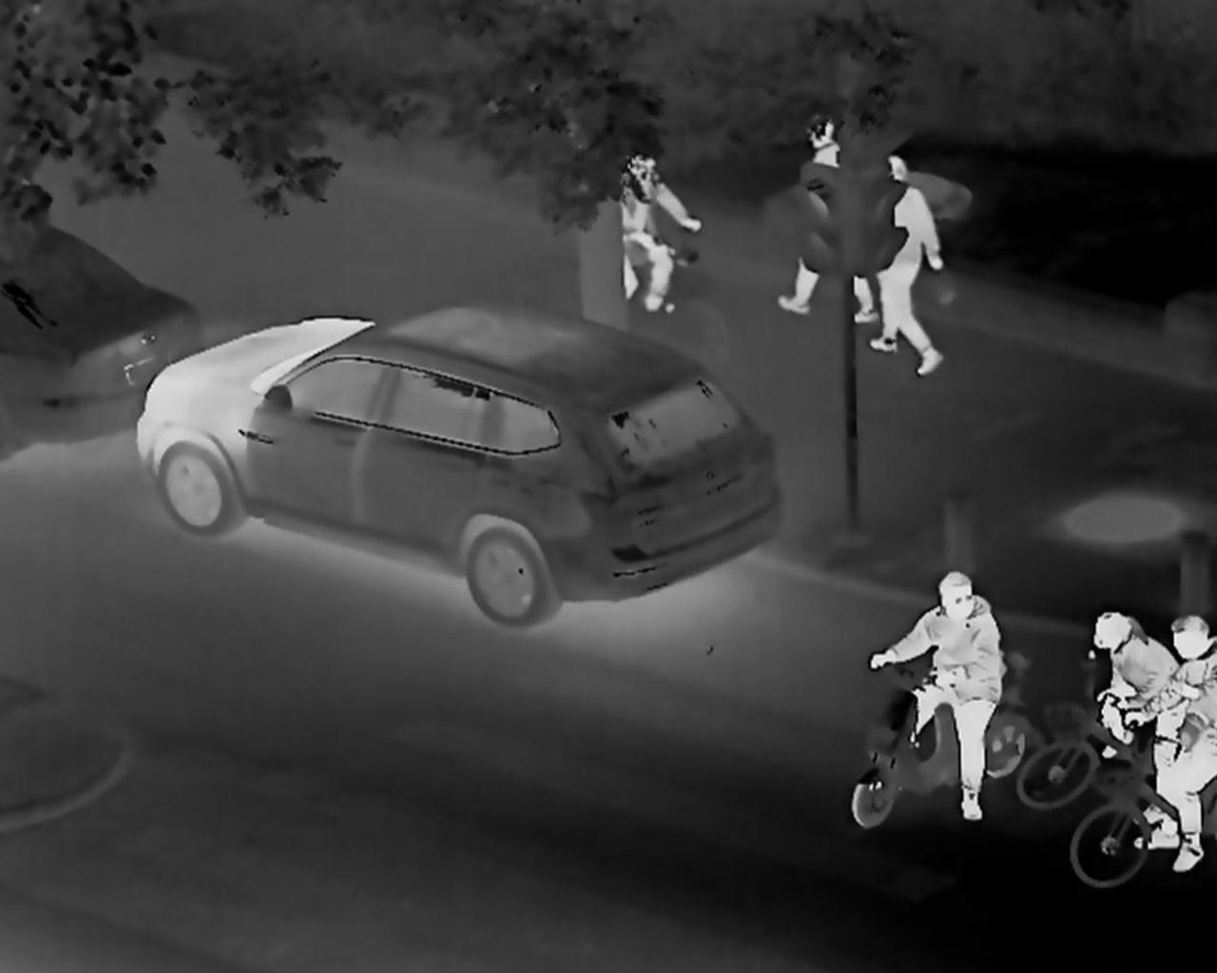person: (862, 567, 1007, 824), (1111, 616, 1217, 871), (779, 107, 879, 323), (1088, 608, 1175, 822), (868, 149, 949, 376), (614, 143, 701, 318)
